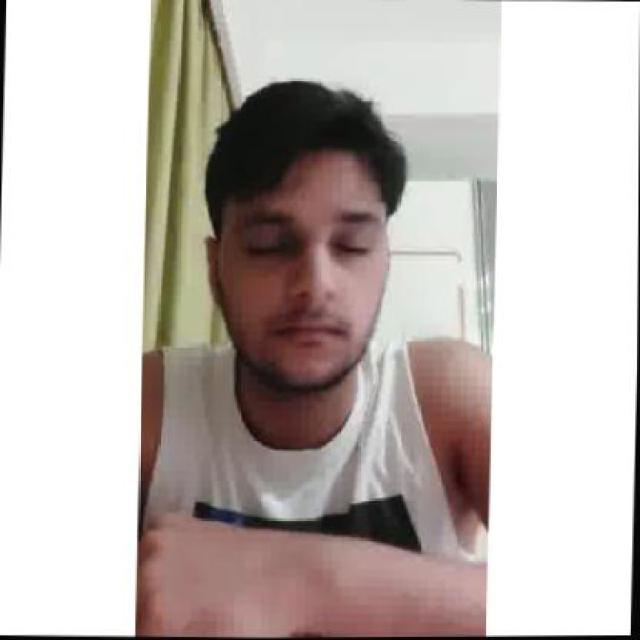inattentif: (195, 69, 398, 400)
